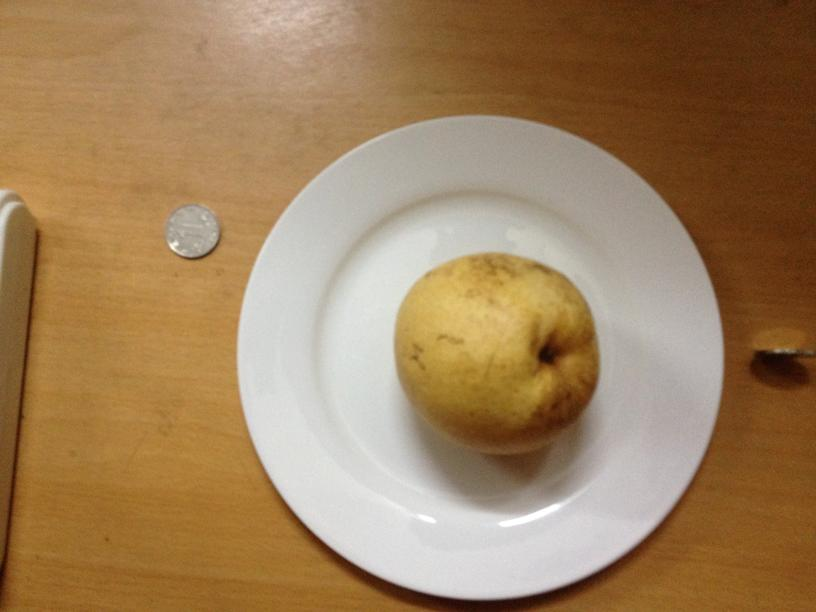coin: (162, 202, 222, 258)
pear: (389, 253, 601, 454)
